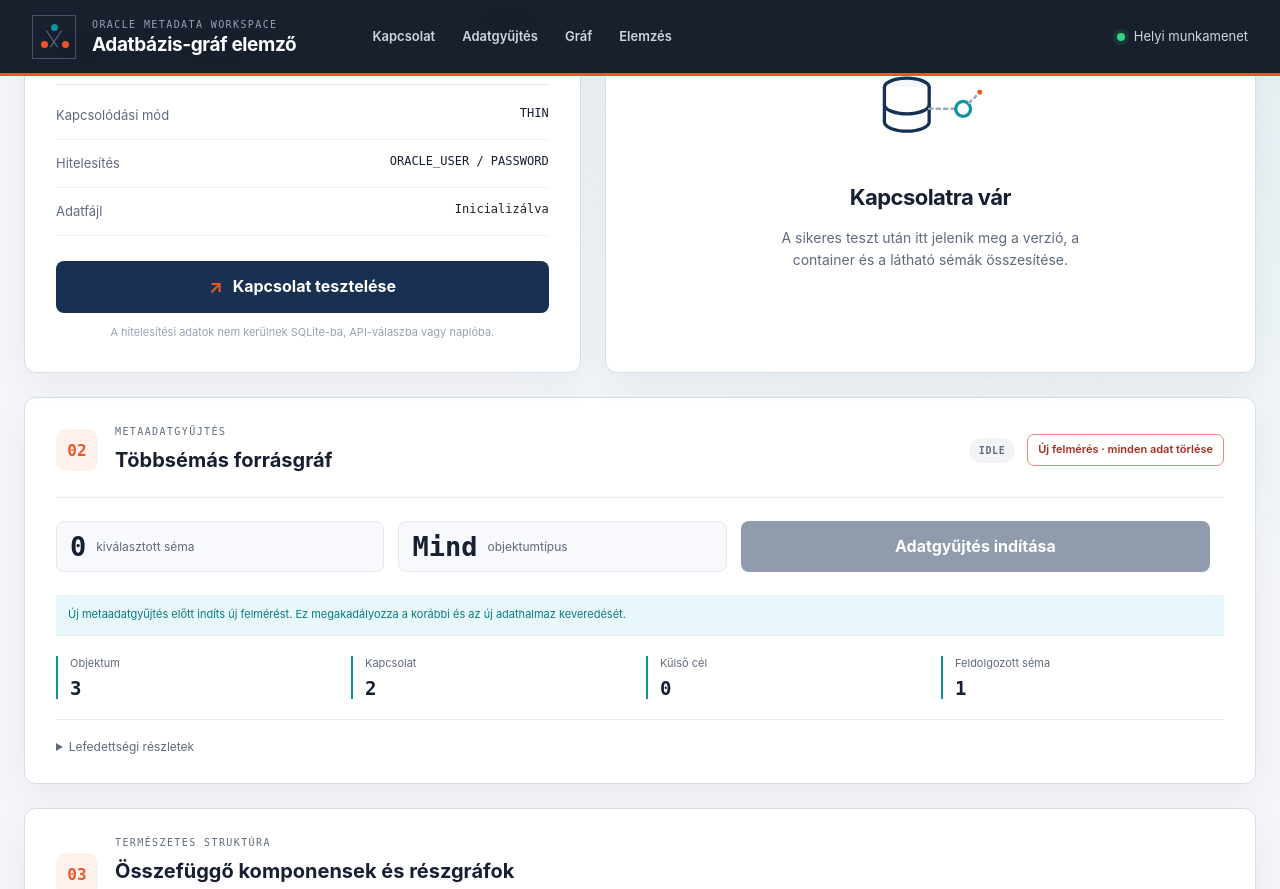
Scenario: resets the complete workspace and returns the interface to its initial state
The image size is (1280, 889).
(page scrolled)
Check: the heading "Lefedettségi részletek" is shown, box [69,739,194,754]
Click the button "Új felmérés · minden adat törlése".
click(1126, 450)  # box [1027,434,1224,466]
(page scrolled)
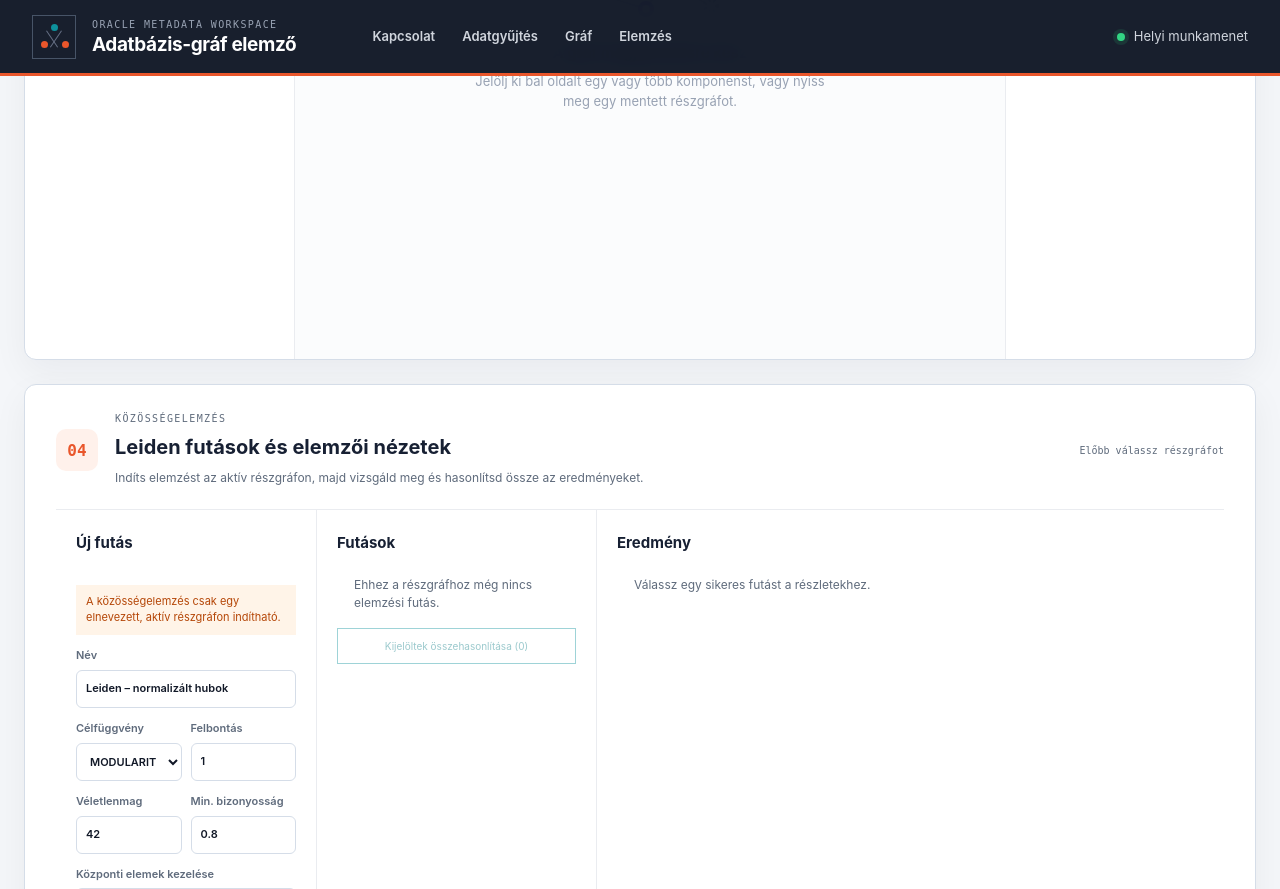
Check: the text "Előbb válassz részgráfot" is shown, box [1080,445,1224,456]
Check: the heading "Lefedettségi részletek" is gone
